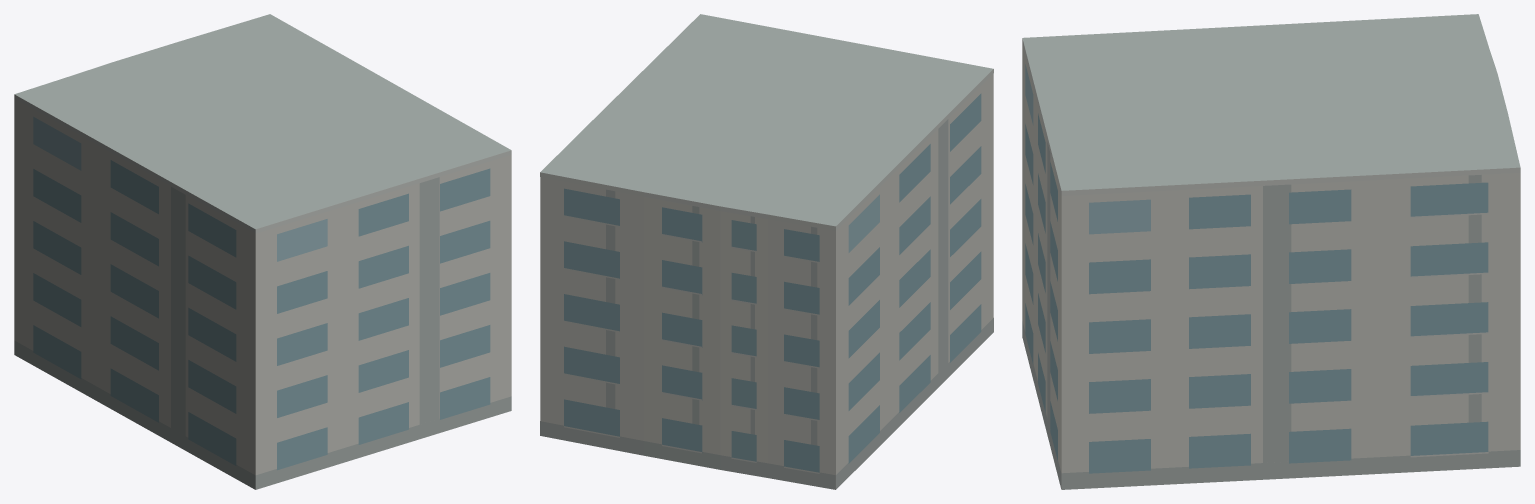
Rendered from survey-upis-32854392.glb.
3 views of the same model, side by side, from view 1: azimuth 30°, elevation 25°; view 2: azimuth 150°, elevation 25°; view 3: azimuth 270°, elevation 25° (orthographic). The views are drawn at different scales.
Parts seen in each view (by area): view 1: survey-upis-32854392.tmp; view 2: survey-upis-32854392.tmp; view 3: survey-upis-32854392.tmp.
Part boxes in pixels (x1,y1,x2,y2): survey-upis-32854392.tmp: (14,14,511,489); survey-upis-32854392.tmp: (540,14,993,489); survey-upis-32854392.tmp: (1022,14,1520,489).
Bounding box in the file's own units: 17.64 × 13.9 × 21.
